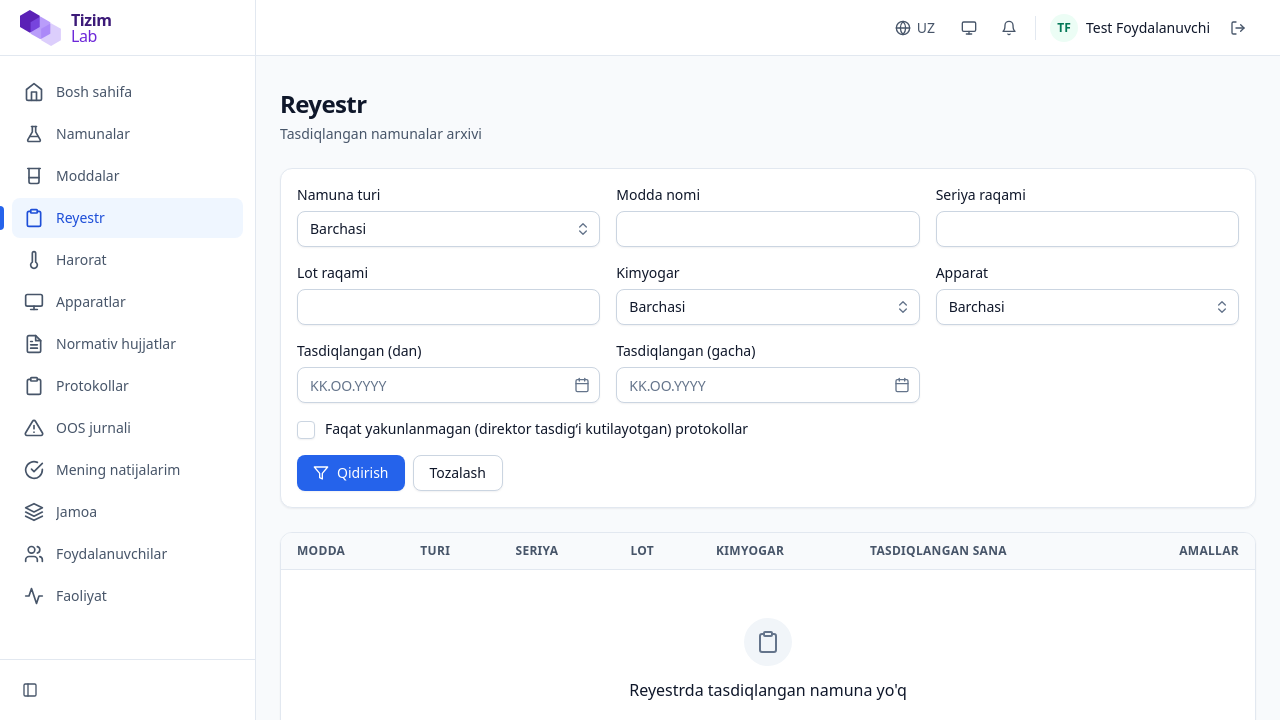
Test: P16: reyestr — kimyogar filtri › nofaol kimyogar belgilanadi
Click the dropdown named "Kimyogar" at (657, 306), box [616,289,920,325]
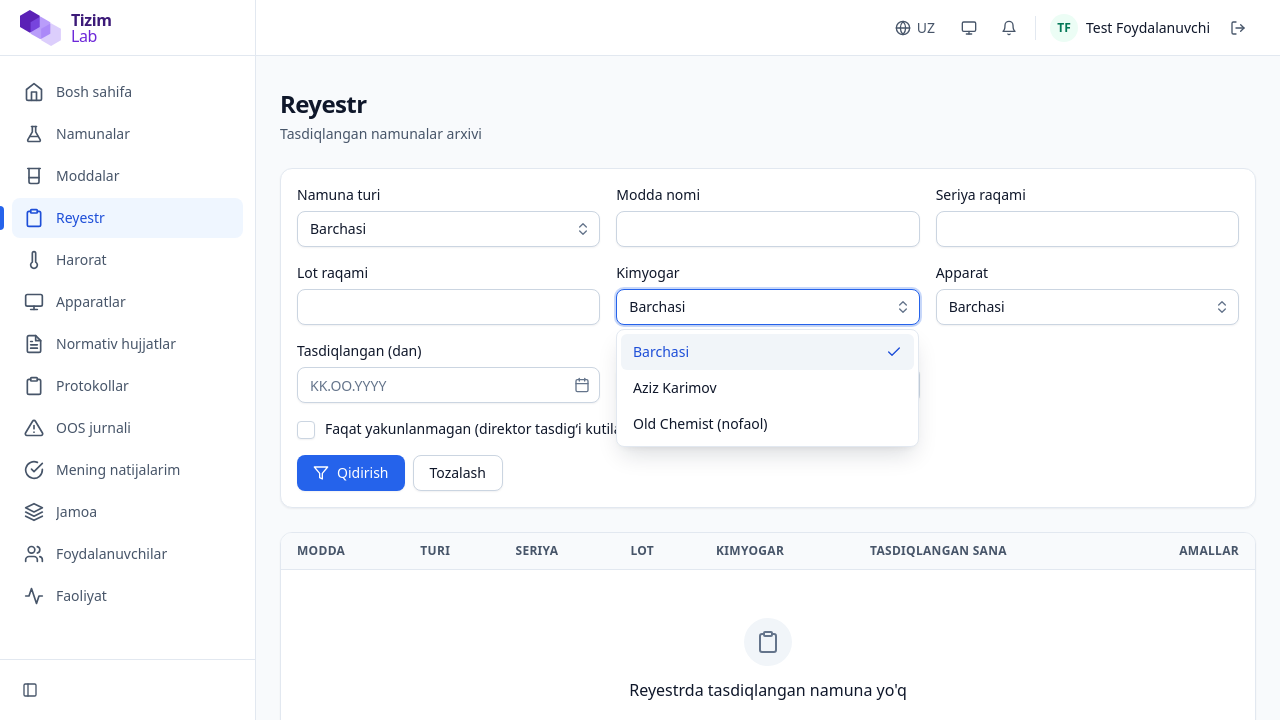
Now the text "Old Chemist (nofaol)" is shown, box [633,414,768,434]
